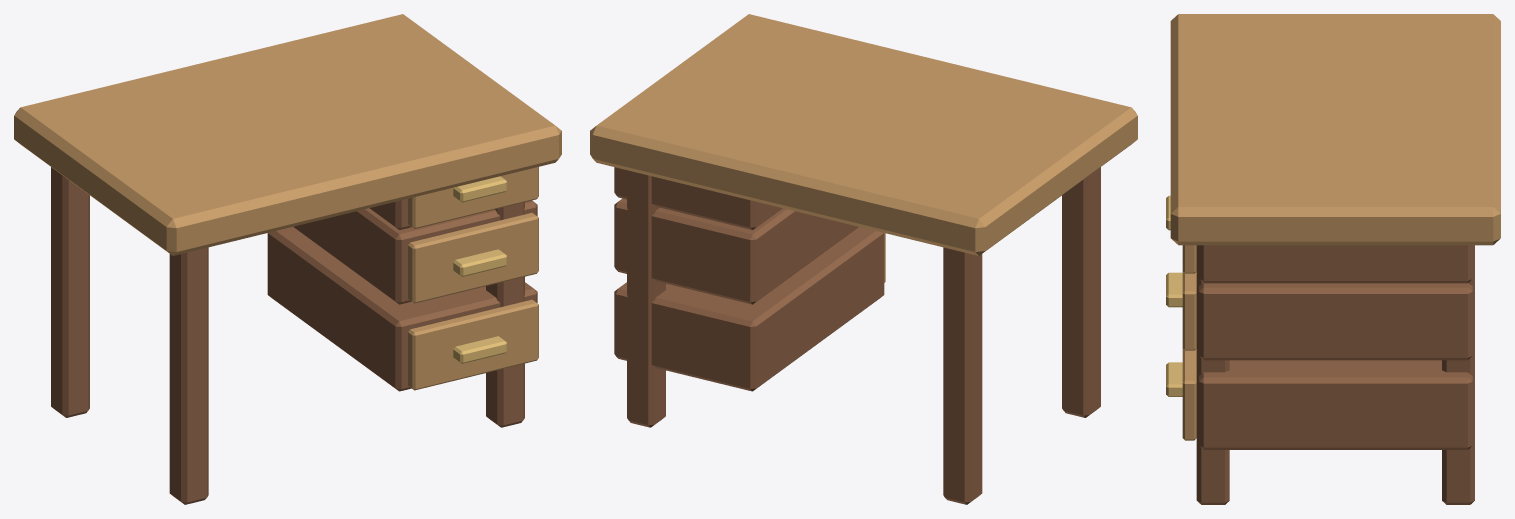
The model's file is SM_CH_Paper_Desk.fbx.
The picture shows the model from 3 angles, left to right: view 1: azimuth 30°, elevation 25°; view 2: azimuth 150°, elevation 25°; view 3: azimuth 270°, elevation 25°; orthographic projection. The views are drawn at different scales.
Parts seen in each view (by area): view 1: SM_CH_Paper_Desk; view 2: SM_CH_Paper_Desk; view 3: SM_CH_Paper_Desk.
Boxes of the visible parts, bbox=[...] form: SM_CH_Paper_Desk: bbox=[14, 14, 561, 504]; SM_CH_Paper_Desk: bbox=[590, 14, 1137, 504]; SM_CH_Paper_Desk: bbox=[1166, 14, 1500, 504].
Bounding box in the file's own units: 10000 × 7100 × 7250.
